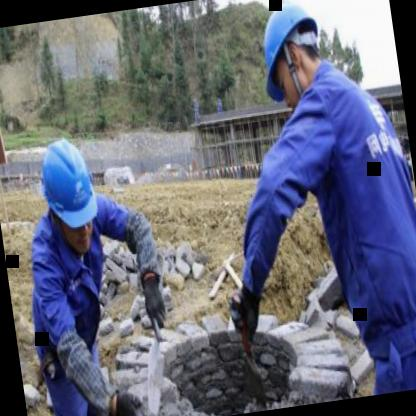helmet: (248, 0, 334, 105), (30, 132, 103, 250)
